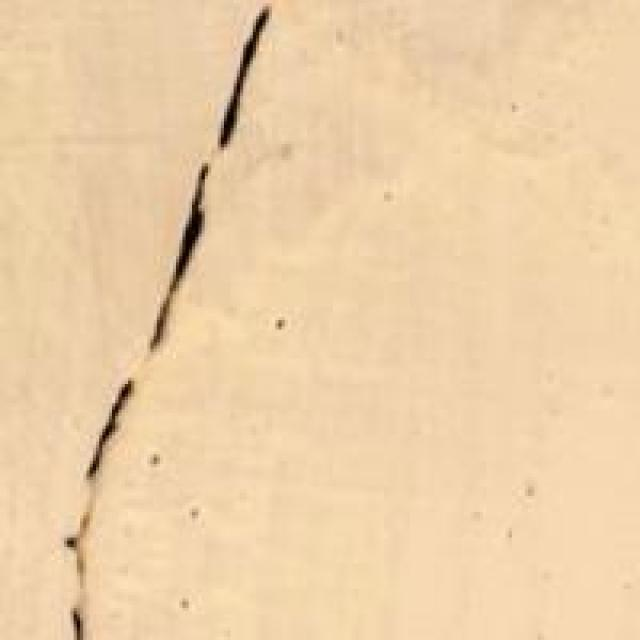crack: (74, 13, 275, 637)
